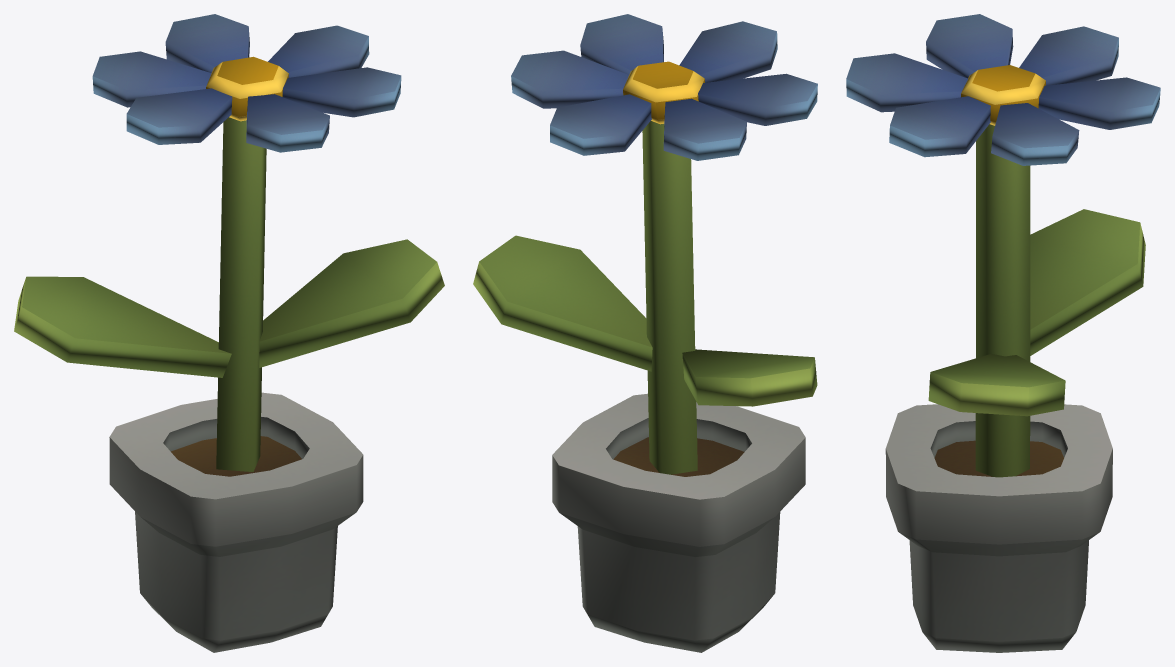
File: flower_blue_pot.fbx
3 views of the same model, side by side, from view 1: azimuth 30°, elevation 25°; view 2: azimuth 150°, elevation 25°; view 3: azimuth 270°, elevation 25° (orthographic). The views are drawn at different scales.
Parts seen in each view (by area): view 1: flower_blue_pot; view 2: flower_blue_pot; view 3: flower_blue_pot.
Boxes of the visible parts, <box> form: flower_blue_pot: <box>14,14,444,652</box>; flower_blue_pot: <box>473,14,817,652</box>; flower_blue_pot: <box>846,14,1160,652</box>.
Bounding box in the file's own units: 56.55 × 78.99 × 40.78.
